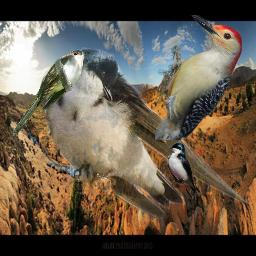Cuckoo: (11, 49, 91, 138)
Swallow: (41, 46, 251, 221), (166, 142, 201, 198)
Woodpecker: (155, 15, 242, 140)
